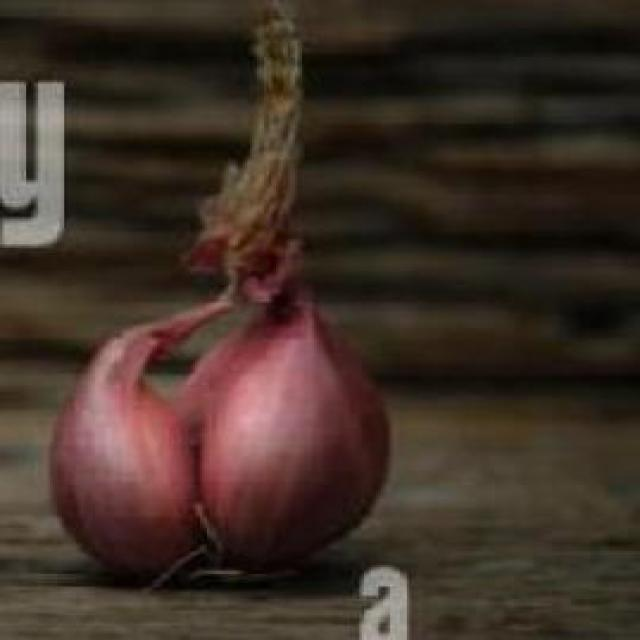Onion: (58, 266, 427, 574)
